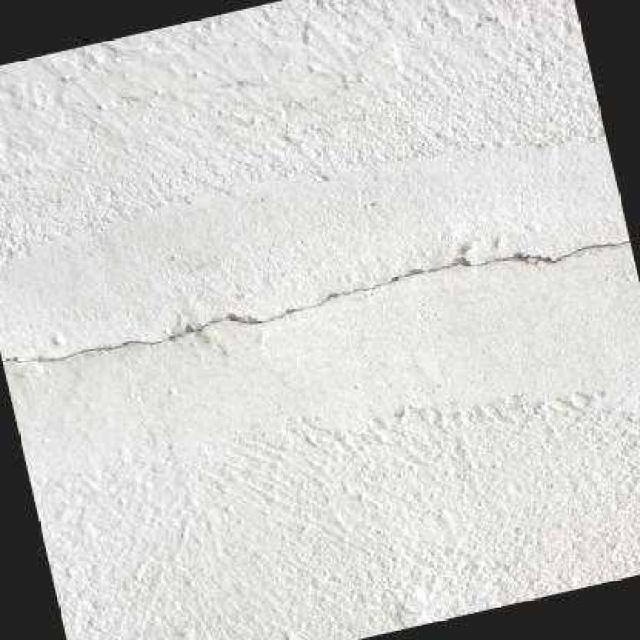D00: (0, 234, 632, 369)
